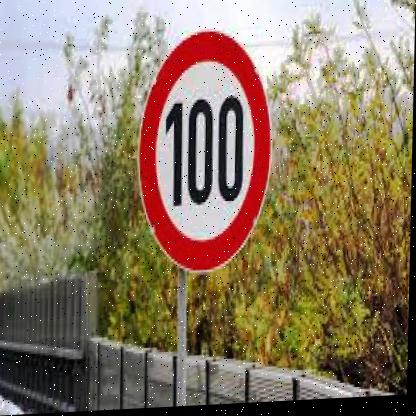Speed Limit -100-: (136, 23, 277, 274)
